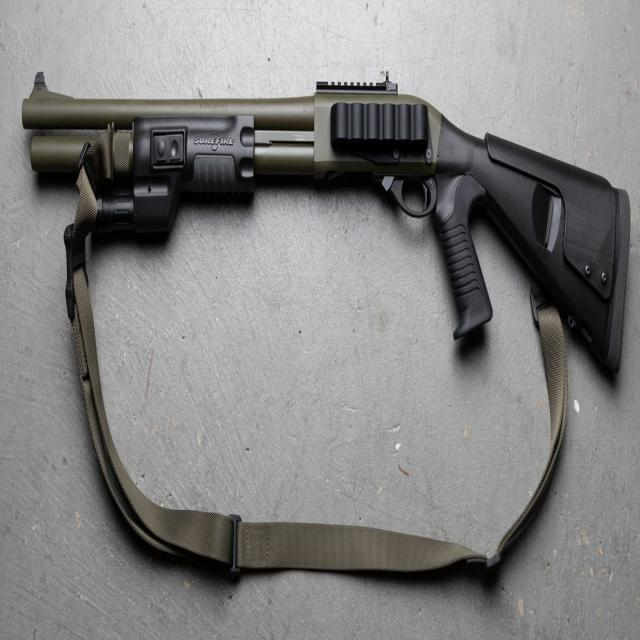ShotGun: (22, 74, 632, 379)
